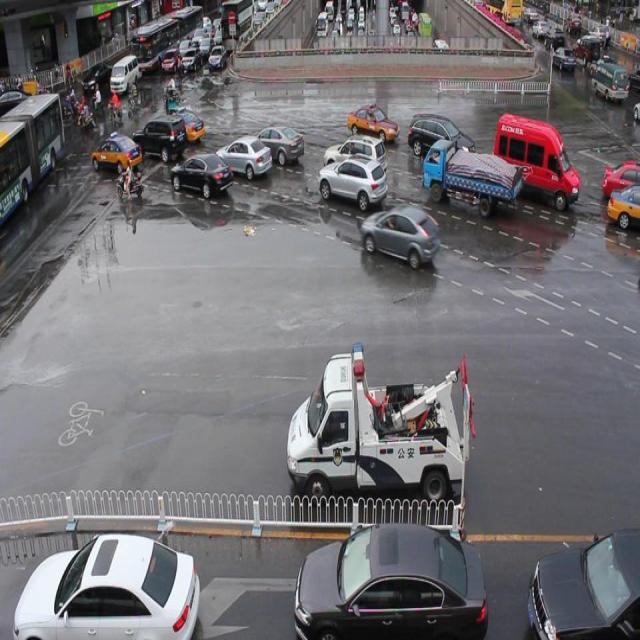bus: (288, 335, 476, 505), (421, 143, 519, 214)
car: (291, 522, 487, 640), (14, 528, 198, 640), (530, 535, 640, 640), (360, 208, 437, 266), (318, 156, 386, 210), (408, 108, 474, 160), (326, 136, 386, 188), (170, 152, 235, 196), (216, 134, 274, 178), (134, 112, 187, 158), (251, 124, 304, 164), (348, 100, 398, 136), (603, 154, 640, 197), (608, 180, 640, 227), (163, 106, 203, 142)
truck: (492, 107, 580, 202)
